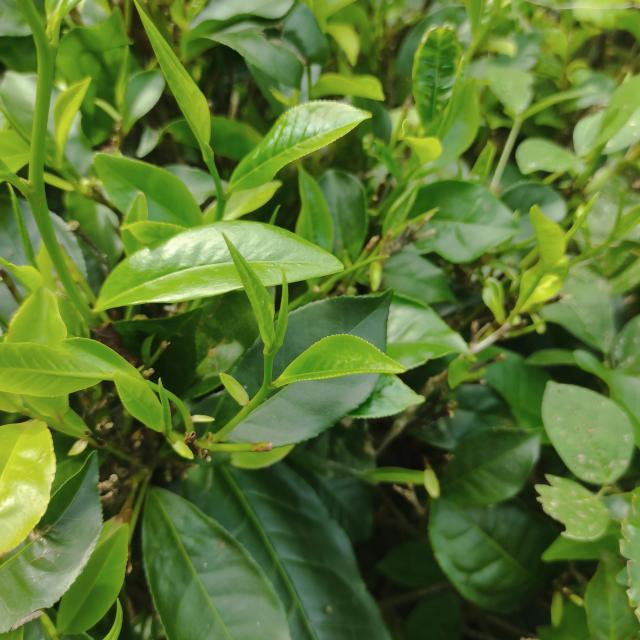unopened_leaf: (428, 52, 470, 146), (554, 183, 608, 251), (4, 177, 39, 272), (379, 201, 447, 247), (267, 262, 297, 360), (157, 377, 181, 452), (98, 591, 133, 640)
